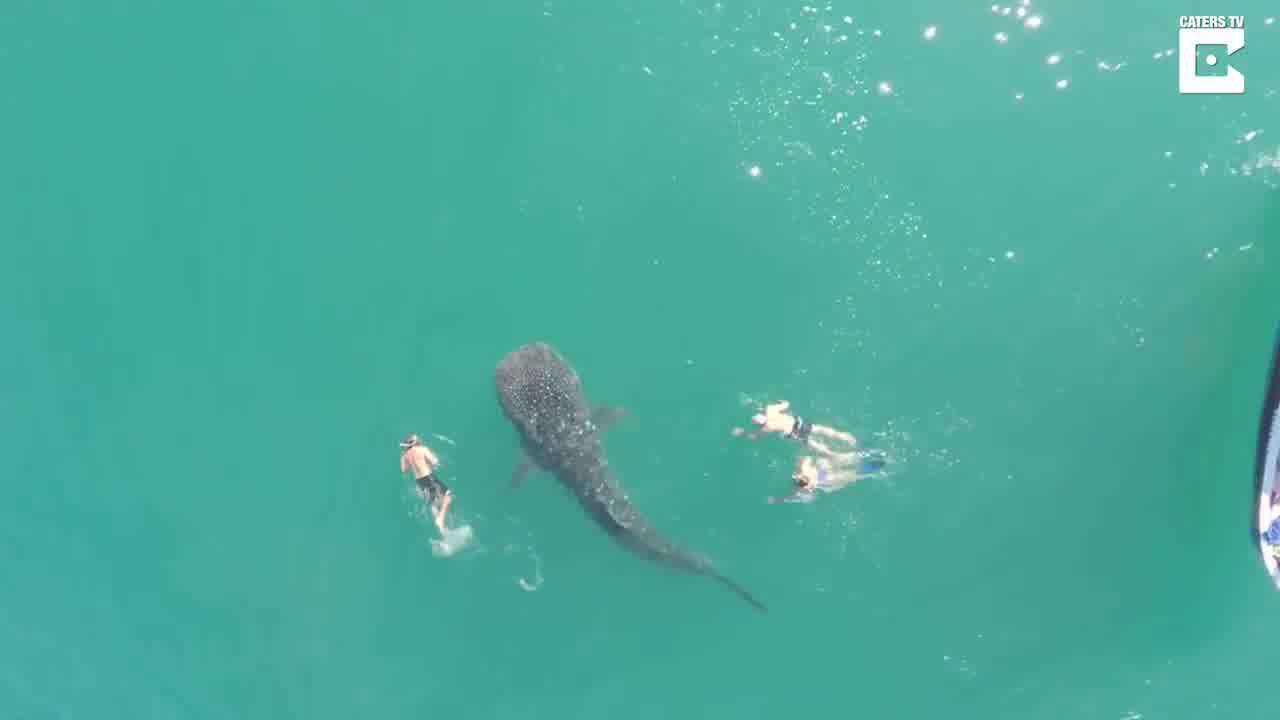human: (372, 419, 460, 550), (737, 394, 855, 451), (785, 464, 881, 515)
